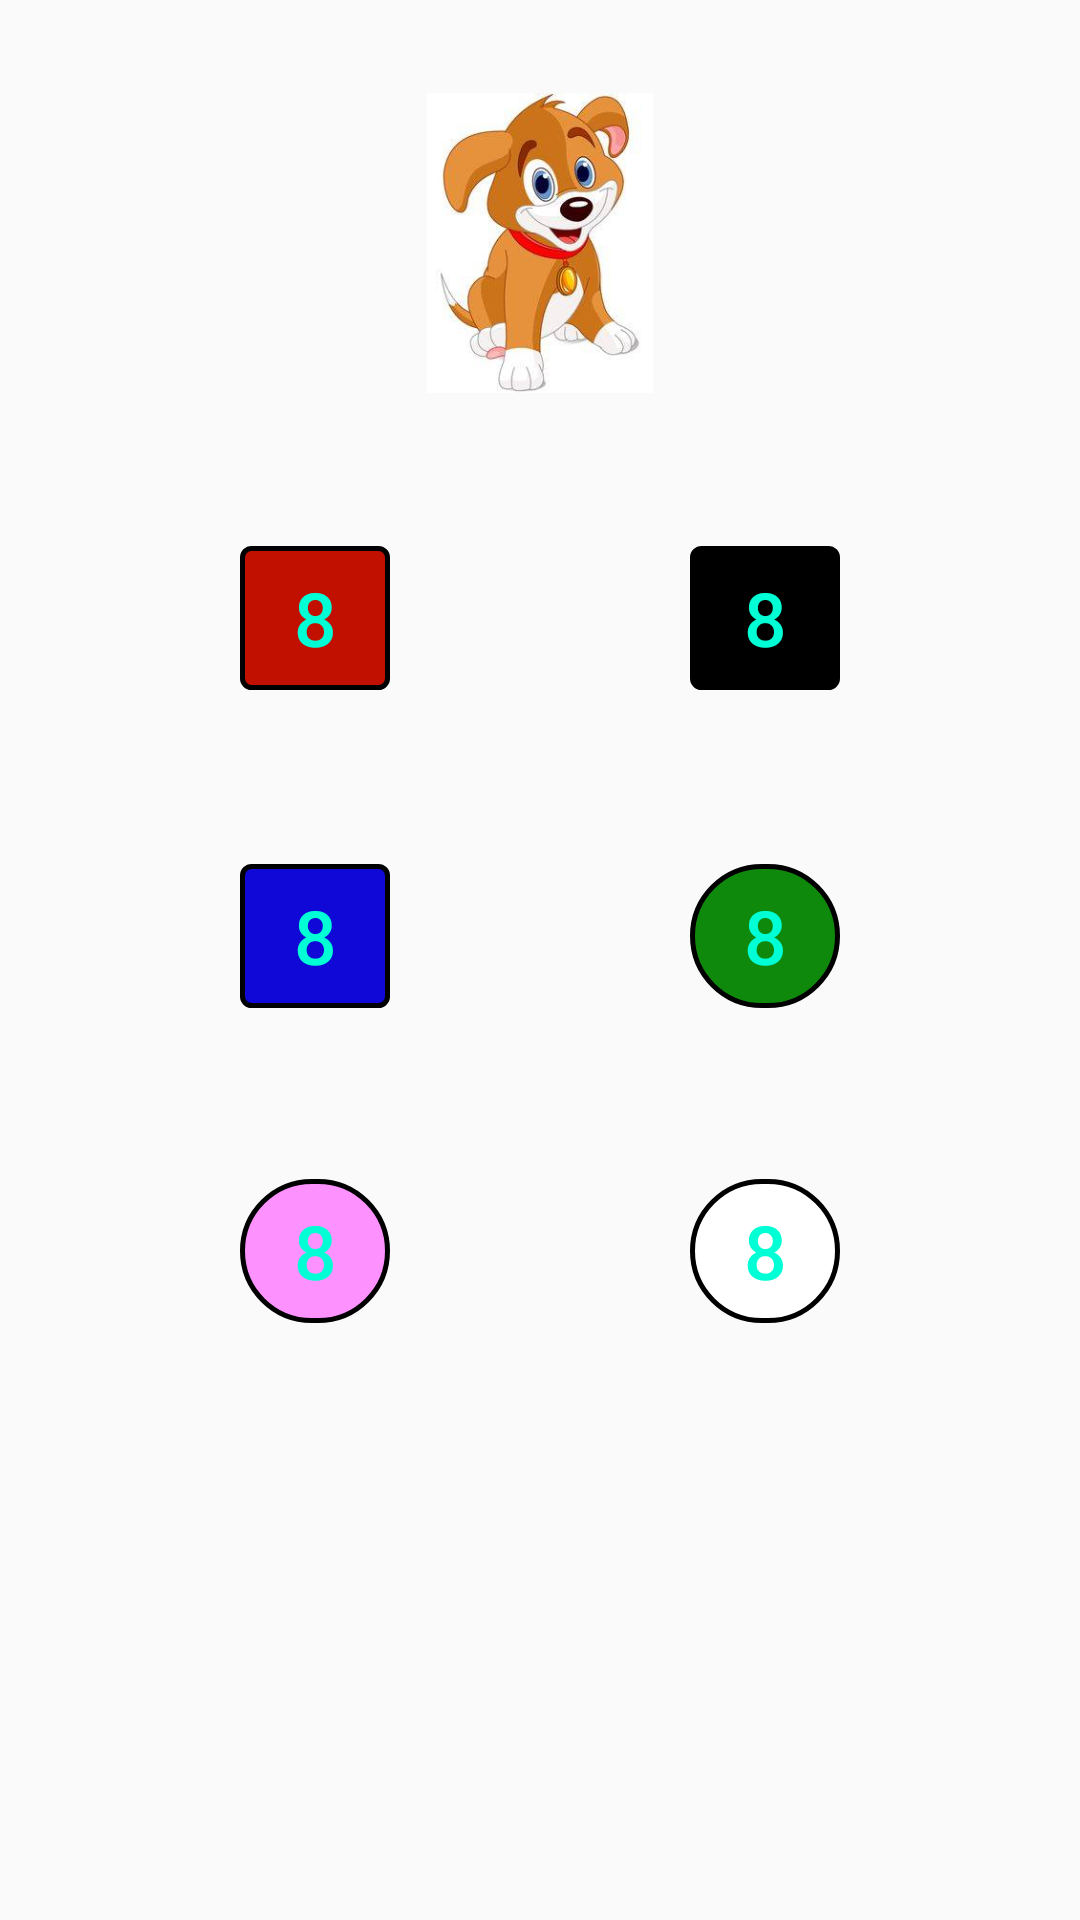

Where icons sit on this 1080x1920 app screen, as bbox(x1, y1, x2, y2):
dog medium mode: bbox(440, 93, 639, 391)
